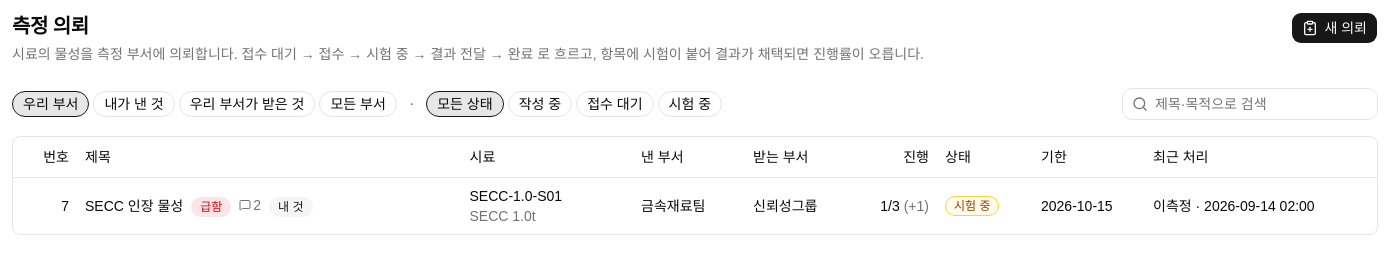
Test: 측정 의뢰 게시판 › 급한 건은 배지가 붙고, 없으면 안내가 선다
Check: the icon "급함" is shown, box [191, 196, 231, 216]
Click the button "작성 중".
click(540, 104)  # box [508, 91, 572, 117]
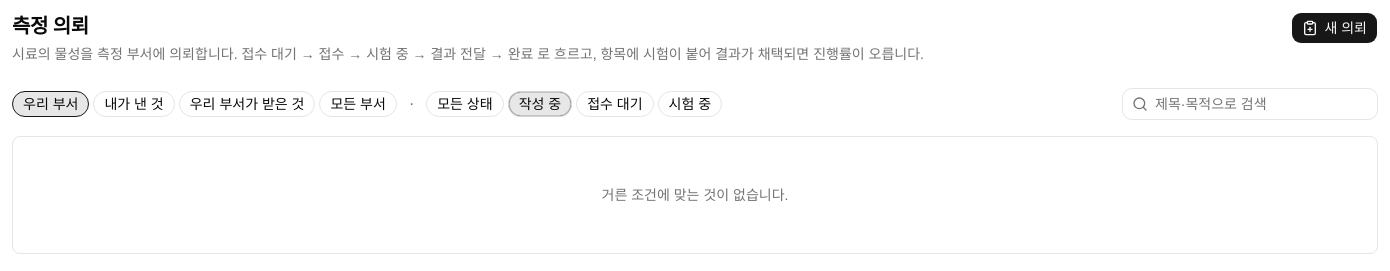
Check: the text "거른 조건에 맞는 것이 없습니다." is shown, box [12, 136, 1378, 254]
